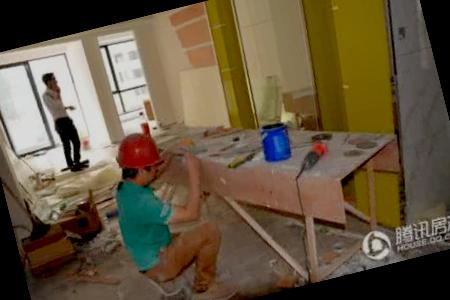no_helmet: (38, 65, 64, 92)
